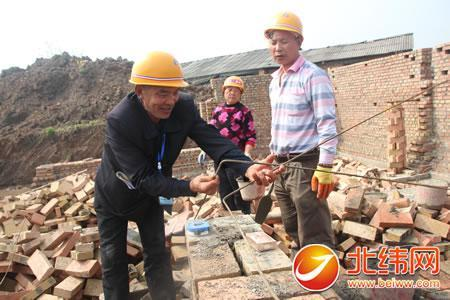gloves: (311, 163, 335, 199)
hard-hat: (127, 49, 189, 88), (263, 9, 303, 36), (222, 76, 244, 93)
person: (92, 49, 249, 299), (262, 9, 339, 252), (199, 75, 257, 213)
